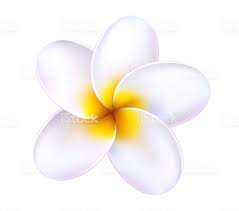frangipani: (32, 18, 212, 196)
